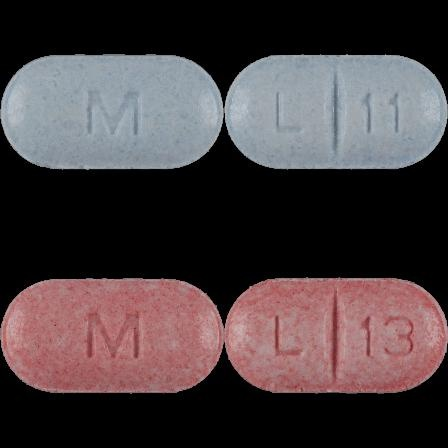0378-1815: (0, 0, 224, 224)
